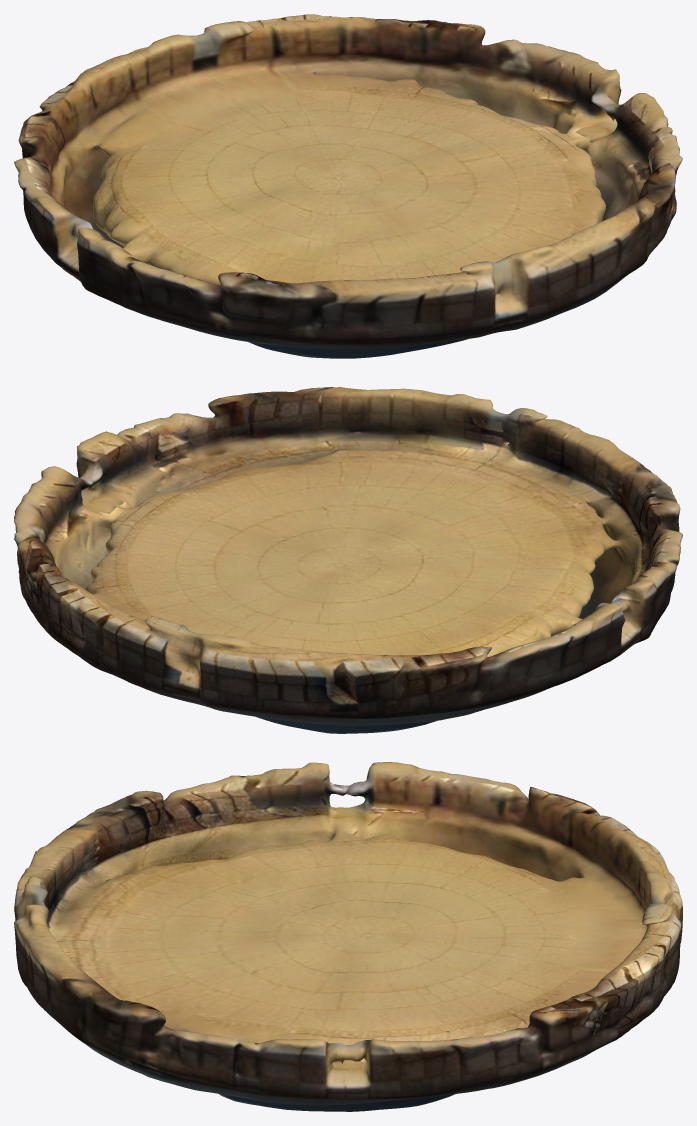
File: colosseum_arena.glb
3 renders of one model, top to bottom at view 1: azimuth 30°, elevation 25°; view 2: azimuth 150°, elevation 25°; view 3: azimuth 270°, elevation 25°, orthographic.
Parts seen in each view (by area): view 1: tripo_node_9173ba60-fd52-43ee-83fa-b46841b7a441; view 2: tripo_node_9173ba60-fd52-43ee-83fa-b46841b7a441; view 3: tripo_node_9173ba60-fd52-43ee-83fa-b46841b7a441.
Boxes of the visible parts, left/top/right/bottom form: tripo_node_9173ba60-fd52-43ee-83fa-b46841b7a441: left=14, top=14, right=682, bottom=358; tripo_node_9173ba60-fd52-43ee-83fa-b46841b7a441: left=14, top=387, right=682, bottom=733; tripo_node_9173ba60-fd52-43ee-83fa-b46841b7a441: left=14, top=762, right=682, bottom=1111.
Size of the model in its own units: 0.7699 by 0.1996 by 0.7656.
1 material, 1 textured.
